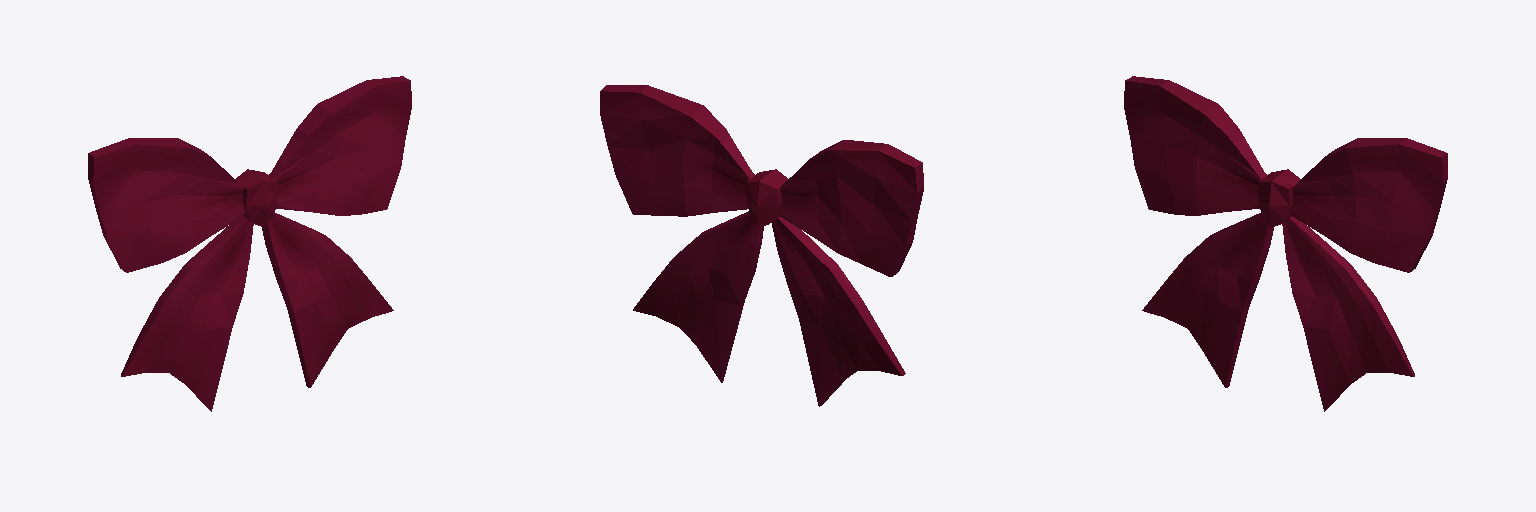
3 renders of one model, left to right at view 1: azimuth 30°, elevation 25°; view 2: azimuth 150°, elevation 25°; view 3: azimuth 330°, elevation 25°, orthographic.
Visible parts, largest first — view 1: ribbon_翅_Plane.008; view 2: ribbon_翅_Plane.008; view 3: ribbon_翅_Plane.008.
Part boxes in pixels (x1,y1,x2,y2): ribbon_翅_Plane.008: (88,76,411,411); ribbon_翅_Plane.008: (600,85,923,406); ribbon_翅_Plane.008: (1124,76,1447,411).
Size of the model in its own units: 5.48 by 4.63 by 0.6461.
Materials: 2 (1 with a texture image).